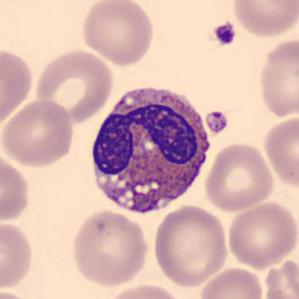Eosinophil: (84, 77, 215, 221)
Platelets: (204, 109, 229, 136), (212, 21, 236, 46)
RBC: (150, 203, 231, 289), (68, 208, 151, 288), (34, 47, 115, 124), (0, 98, 77, 169), (202, 140, 276, 213), (224, 200, 298, 270), (79, 0, 156, 67), (255, 36, 298, 119), (0, 44, 36, 128), (261, 113, 298, 190), (229, 0, 298, 40), (0, 218, 36, 292), (0, 148, 32, 228), (197, 265, 265, 299), (260, 256, 299, 299), (101, 281, 185, 299), (0, 288, 38, 298)
